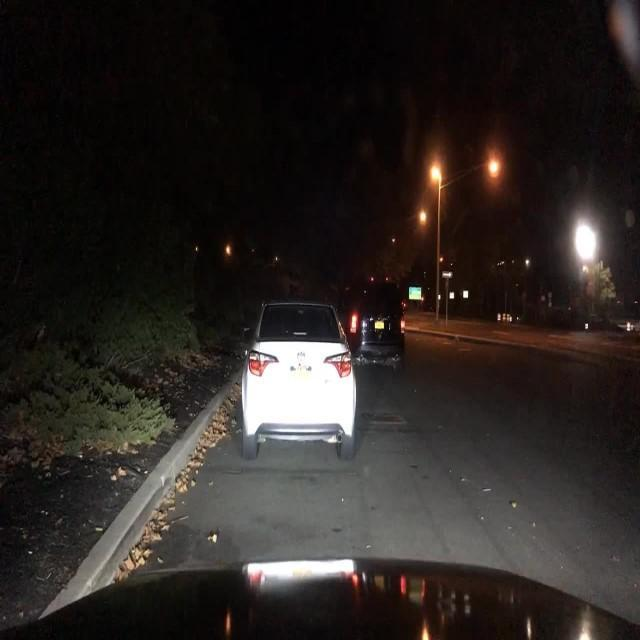normal: (220, 259, 374, 478)
